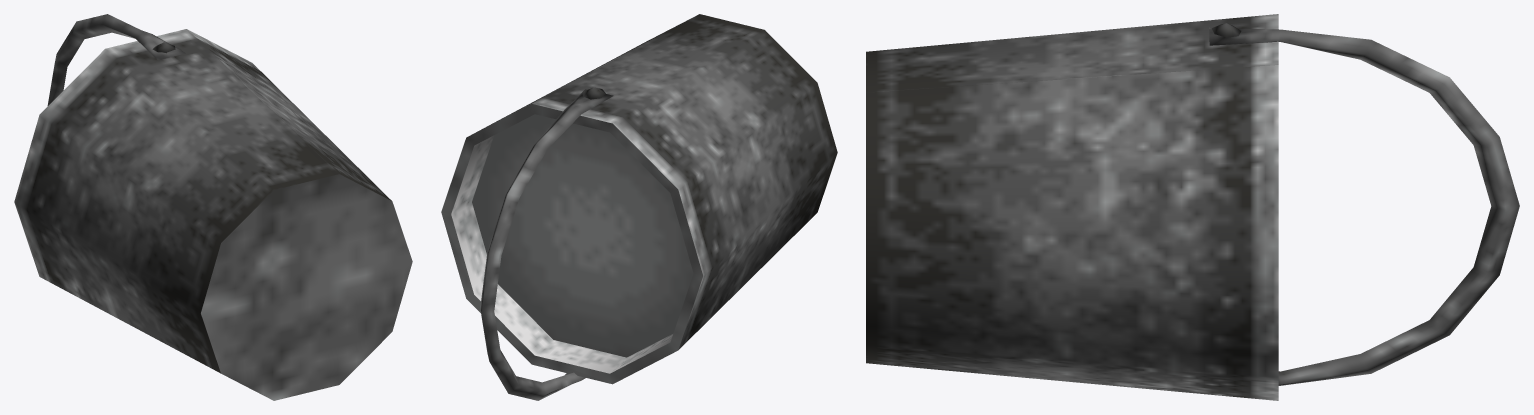
File: Bucket_Forged_Full_Hand.fbx
3 views of the same model, side by side, from view 1: azimuth 30°, elevation 25°; view 2: azimuth 150°, elevation 25°; view 3: azimuth 270°, elevation 25° (orthographic). The views are drawn at different scales.
Visible parts, largest first — view 1: Bucket_Forged; view 2: Bucket_Forged; view 3: Bucket_Forged.
Part boxes in pixels (left/top/right/bottom): Bucket_Forged: left=14, top=14, right=412, bottom=400; Bucket_Forged: left=441, top=14, right=837, bottom=400; Bucket_Forged: left=866, top=14, right=1519, bottom=400.
Bounding box in the file's own units: 0.1749 × 0.1819 × 0.2932.
